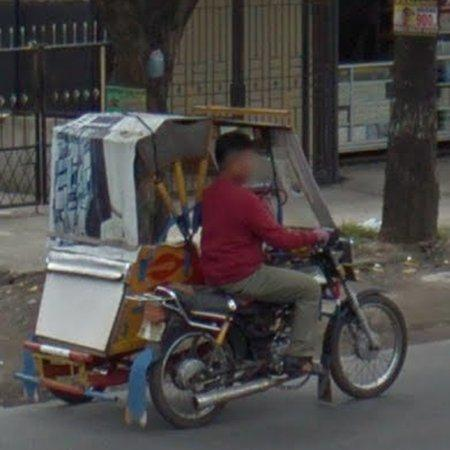motorcycles: (140, 231, 408, 429)
